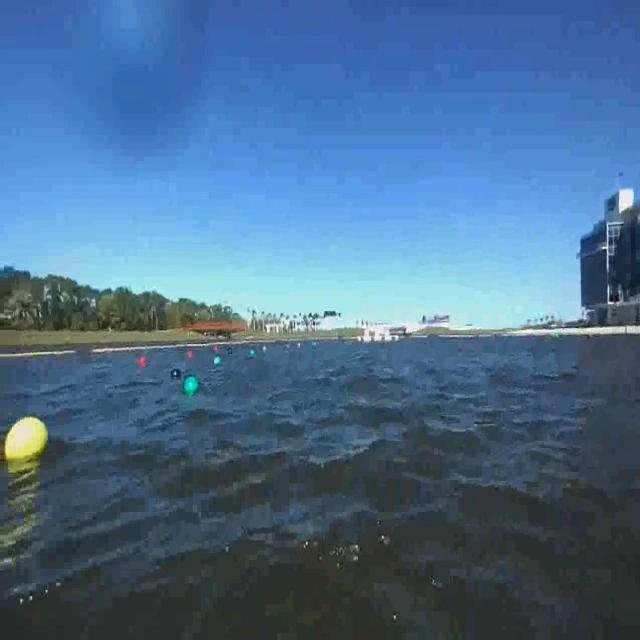black-buoy: (167, 369, 183, 384)
green-buoy: (184, 376, 198, 396)
red-buoy: (138, 355, 149, 369)
yellow-buoy: (6, 416, 51, 460)
